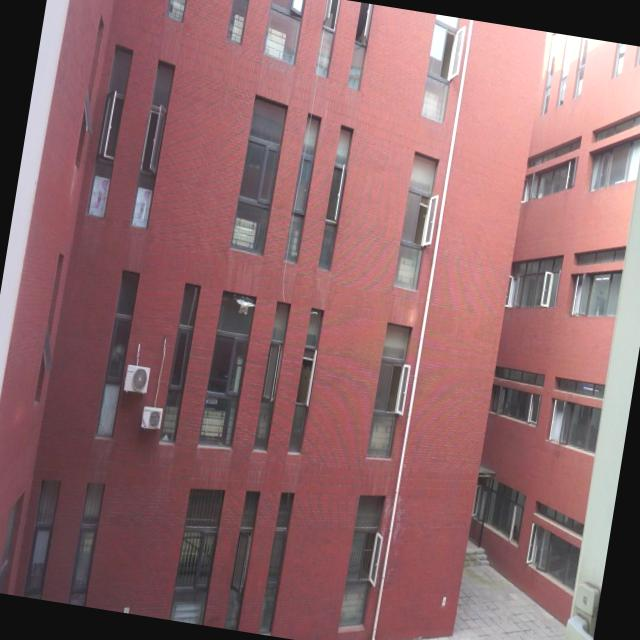drone: (232, 293, 258, 323)
